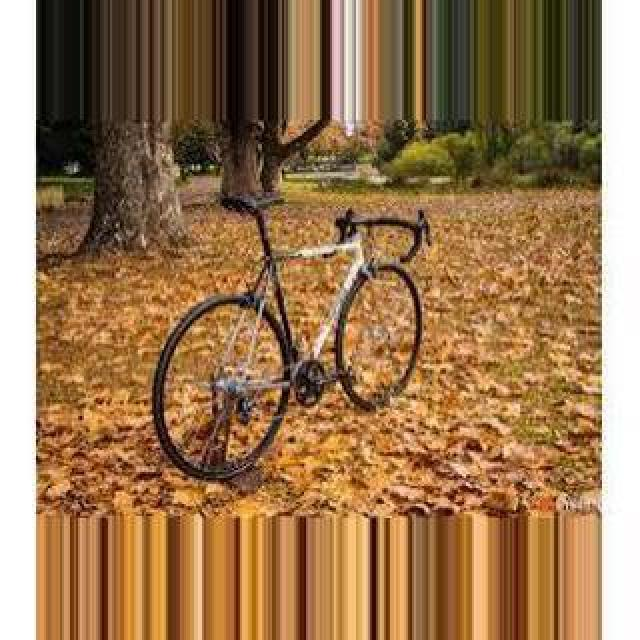Person: (151, 185, 431, 485)
